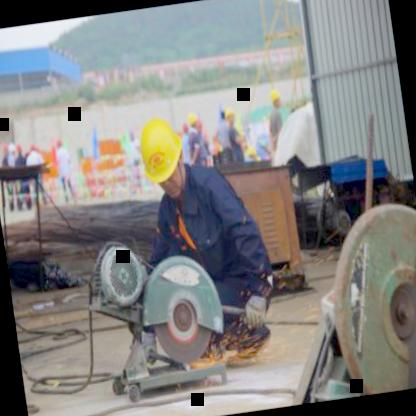helmet: (130, 108, 189, 198)
